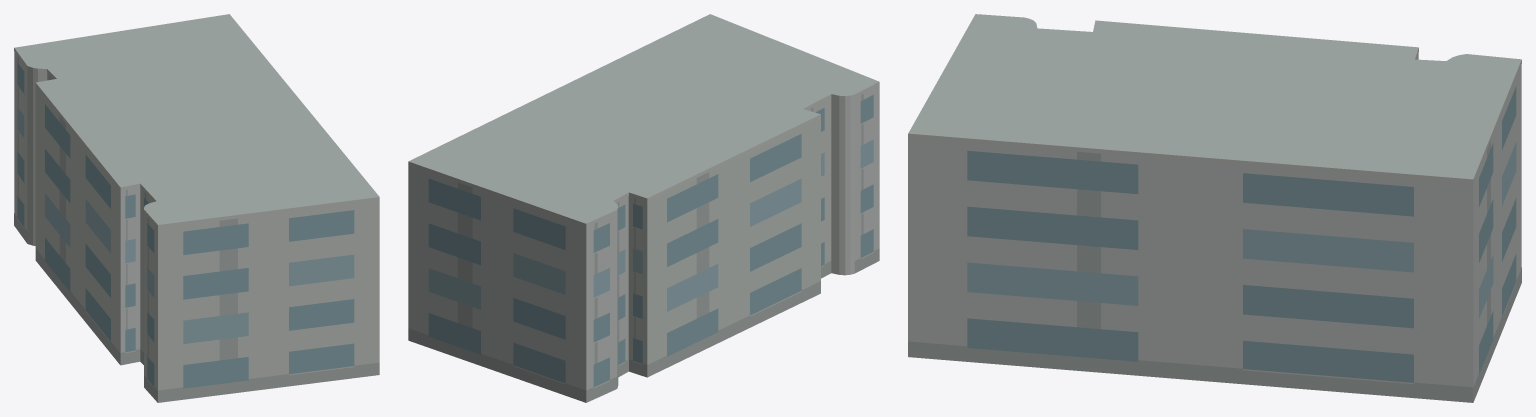
Rendered from survey-upis-32701052.glb.
3 views of the same model, side by side, from view 1: azimuth 30°, elevation 25°; view 2: azimuth 150°, elevation 25°; view 3: azimuth 270°, elevation 25° (orthographic). The views are drawn at different scales.
Visible parts, largest first — view 1: survey-upis-32701052.tmp; view 2: survey-upis-32701052.tmp; view 3: survey-upis-32701052.tmp.
Boxes of the visible parts, x1,y1,x2,y2 form: survey-upis-32701052.tmp: (14, 14, 379, 402); survey-upis-32701052.tmp: (408, 14, 879, 402); survey-upis-32701052.tmp: (908, 14, 1521, 402).
Size of the model in its own units: 19.38 by 12.2 by 30.37.
